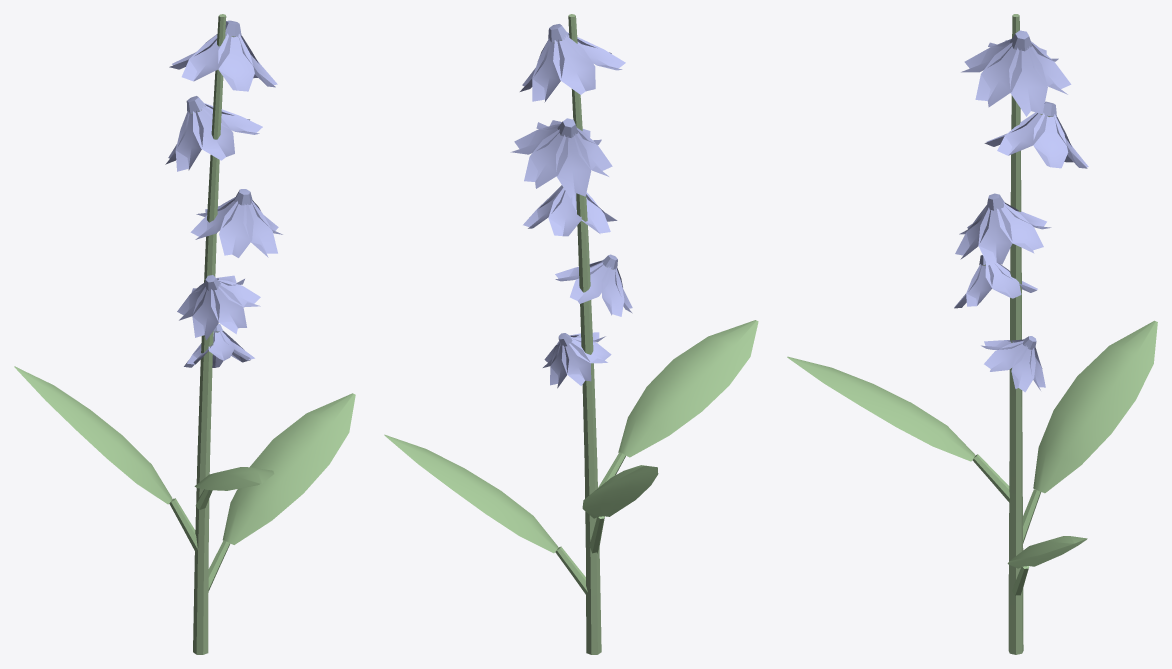
Rendered from bluebell.glb.
The picture shows the model from 3 angles, left to right: view 1: azimuth 30°, elevation 25°; view 2: azimuth 150°, elevation 25°; view 3: azimuth 270°, elevation 25°; orthographic projection. The views are drawn at different scales.
Parts seen in each view (by area): view 1: foliage, flower, stem; view 2: foliage, flower, stem; view 3: foliage, flower, stem.
Boxes of the visible parts, x1,y1,x2,y2 form: foliage: [14, 366, 355, 590]; flower: [165, 20, 282, 367]; stem: [193, 14, 226, 654]; foliage: [384, 320, 758, 594]; flower: [510, 24, 632, 388]; stem: [568, 14, 601, 654]; foliage: [787, 320, 1157, 595]; flower: [954, 30, 1088, 392]; stem: [1008, 14, 1023, 654].
Bounding box in the file's own units: 0.2798 × 0.5601 × 0.291.
